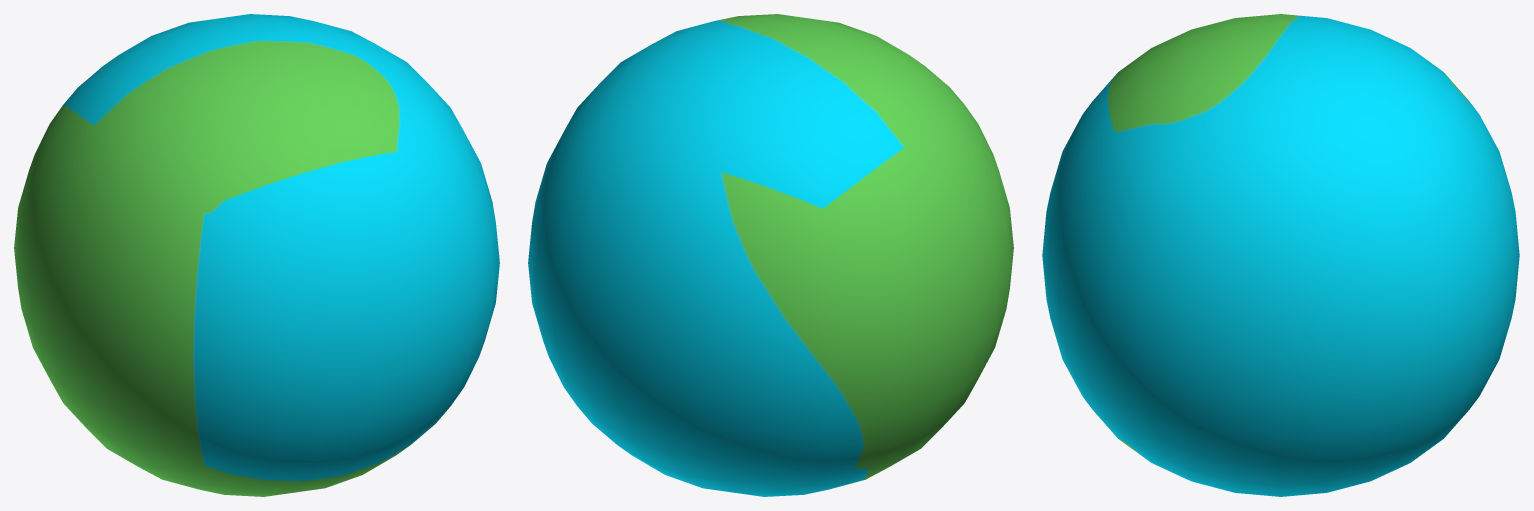
Rendered from aas.obj.
3 views of the same model, side by side, from view 1: azimuth 30°, elevation 25°; view 2: azimuth 150°, elevation 25°; view 3: azimuth 270°, elevation 25° (orthographic).
Visible parts, largest first — view 1: Cube; view 2: Cube; view 3: Cube.
Boxes of the visible parts, <box> form: Cube: <box>14,14,499,496</box>; Cube: <box>528,14,1013,496</box>; Cube: <box>1042,14,1519,496</box>.
Bounding box in the file's own units: 1.68 × 1.68 × 1.68.
Materials: 1 (1 with a texture image).
